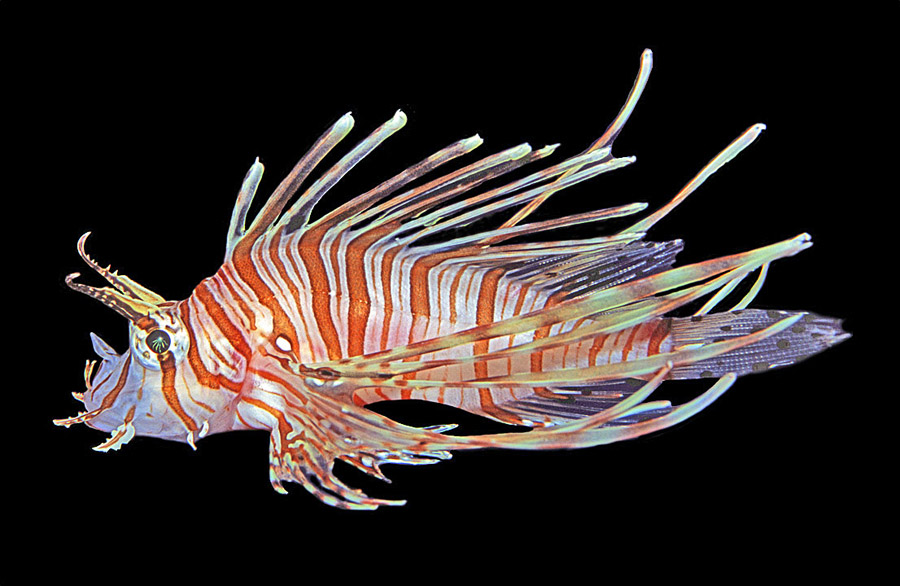Pterois_volitans: (34, 41, 863, 530)
